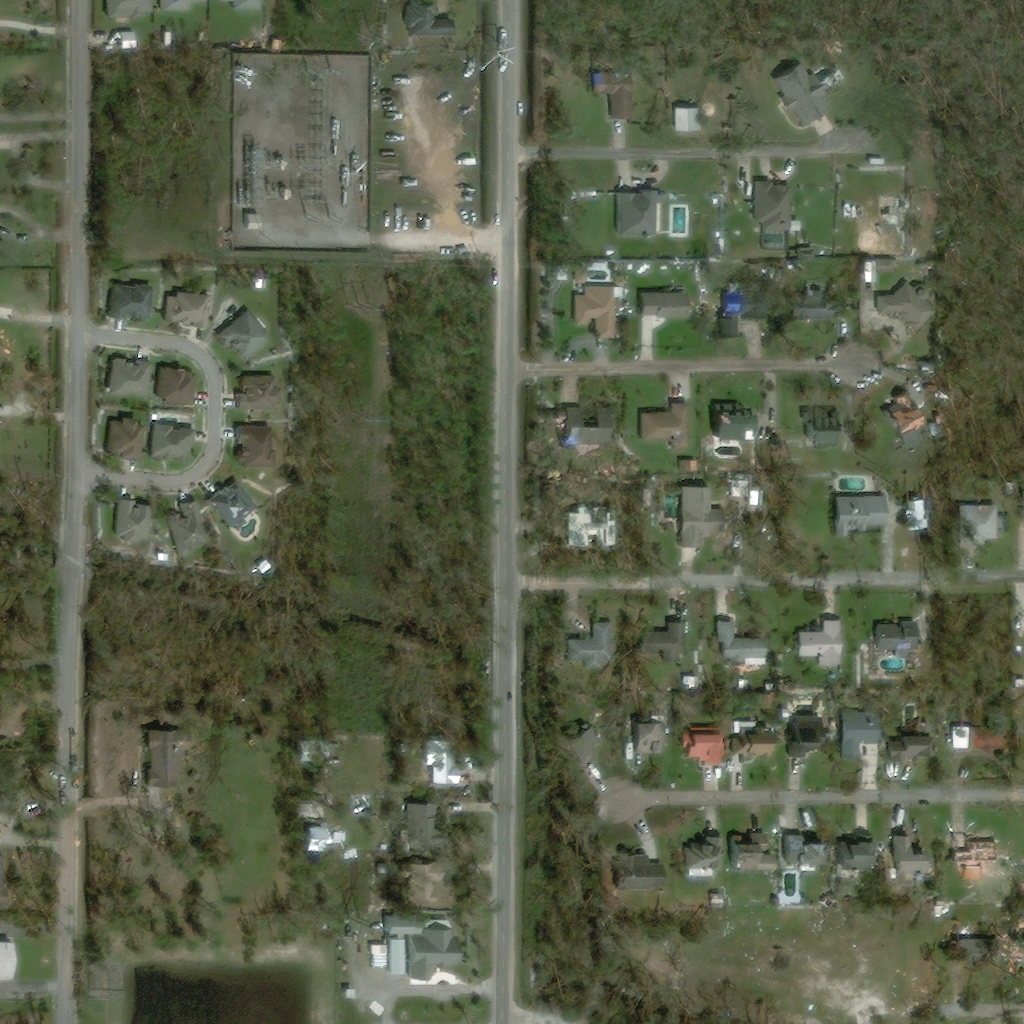major_damage: (294, 795, 379, 859), (950, 834, 1001, 874), (881, 390, 921, 430)
minor_damage: (771, 58, 847, 127), (203, 476, 255, 534), (159, 289, 215, 335), (714, 290, 764, 340), (166, 499, 206, 561), (590, 73, 637, 124), (711, 620, 761, 664), (560, 405, 613, 446), (725, 832, 776, 871), (783, 833, 826, 872), (235, 377, 274, 413), (874, 624, 896, 662), (613, 853, 635, 891), (710, 409, 732, 442), (968, 727, 990, 753), (881, 197, 901, 225), (950, 726, 967, 750), (118, 31, 136, 48)
no_damage: (381, 917, 460, 988), (831, 712, 881, 784), (569, 284, 621, 342), (884, 722, 931, 784), (216, 309, 269, 363), (750, 179, 799, 233), (794, 615, 842, 669), (638, 403, 691, 451), (142, 730, 184, 788), (876, 281, 928, 326), (394, 795, 435, 851), (677, 485, 713, 548), (616, 188, 662, 237), (397, 861, 446, 906), (559, 721, 603, 771), (956, 504, 1000, 553), (100, 282, 151, 323), (830, 495, 884, 531), (731, 720, 772, 766), (682, 835, 722, 882), (885, 835, 928, 877), (414, 742, 455, 786), (564, 507, 611, 545), (111, 358, 155, 398), (154, 426, 200, 464), (801, 410, 844, 450), (645, 621, 685, 664), (111, 419, 149, 464), (234, 426, 274, 468), (113, 499, 150, 544), (637, 288, 687, 320), (791, 290, 841, 321), (785, 715, 820, 758), (160, 369, 198, 408), (675, 732, 714, 770), (409, 0, 447, 35), (566, 636, 603, 669), (953, 940, 1003, 964), (629, 722, 666, 753), (103, 0, 154, 21), (671, 107, 705, 134), (840, 841, 864, 875), (0, 939, 14, 980), (548, 703, 569, 726), (215, 0, 261, 10), (858, 261, 873, 282), (728, 480, 746, 497), (157, 0, 184, 11), (245, 215, 262, 231), (734, 430, 751, 444), (640, 489, 651, 507), (681, 457, 696, 470), (876, 260, 895, 270), (334, 987, 351, 998), (153, 29, 165, 44), (551, 269, 565, 281), (255, 280, 267, 289), (1008, 482, 1016, 495), (335, 1012, 345, 1021), (785, 711, 792, 719), (155, 416, 163, 422)
unclassified: (320, 737, 389, 792)
